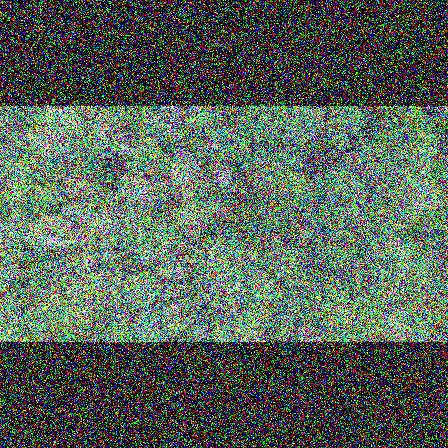Dead: (210, 166, 240, 200), (39, 233, 87, 252), (259, 230, 288, 256), (379, 309, 402, 340), (161, 109, 188, 129), (113, 142, 138, 162)
